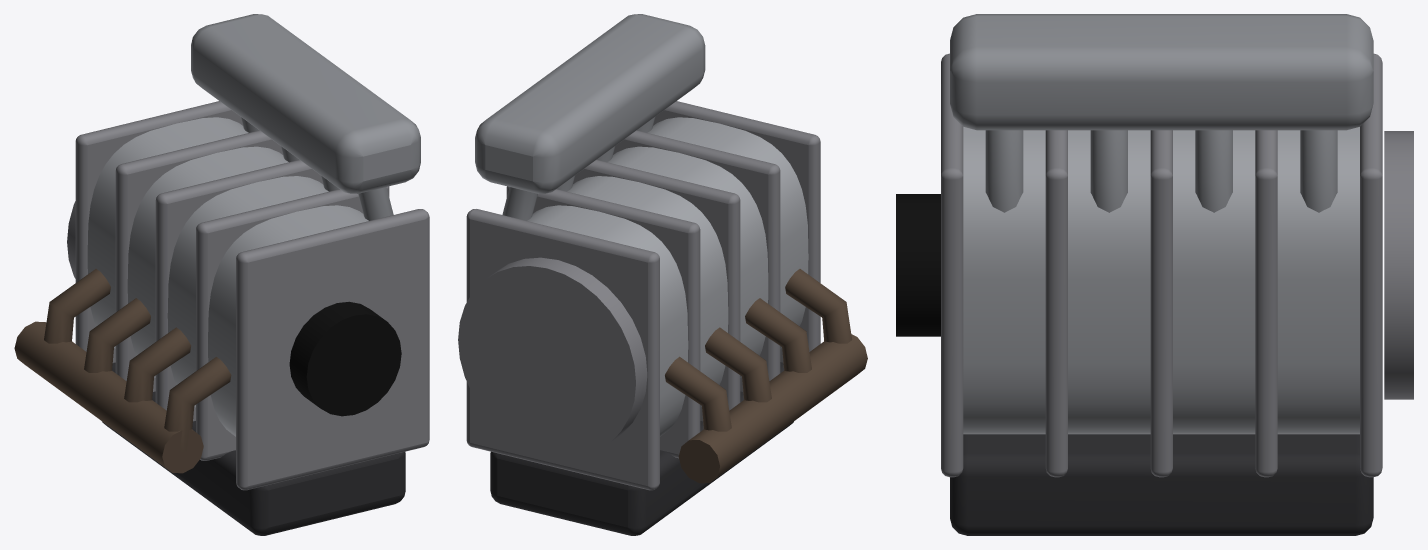
File: r26b_4rotor.glb
3 views of the same model, side by side, from view 1: azimuth 30°, elevation 25°; view 2: azimuth 150°, elevation 25°; view 3: azimuth 270°, elevation 25° (orthographic). The views are drawn at different scales.
Visible parts, largest first — view 1: r26b_4rotor; view 2: r26b_4rotor; view 3: r26b_4rotor.
Boxes of the visible parts, x1,y1,x2,y2 form: r26b_4rotor: (14,14,429,535); r26b_4rotor: (458,14,867,535); r26b_4rotor: (896,14,1413,535).
Size of the model in its own units: 0.425 by 0.61 by 0.578.
